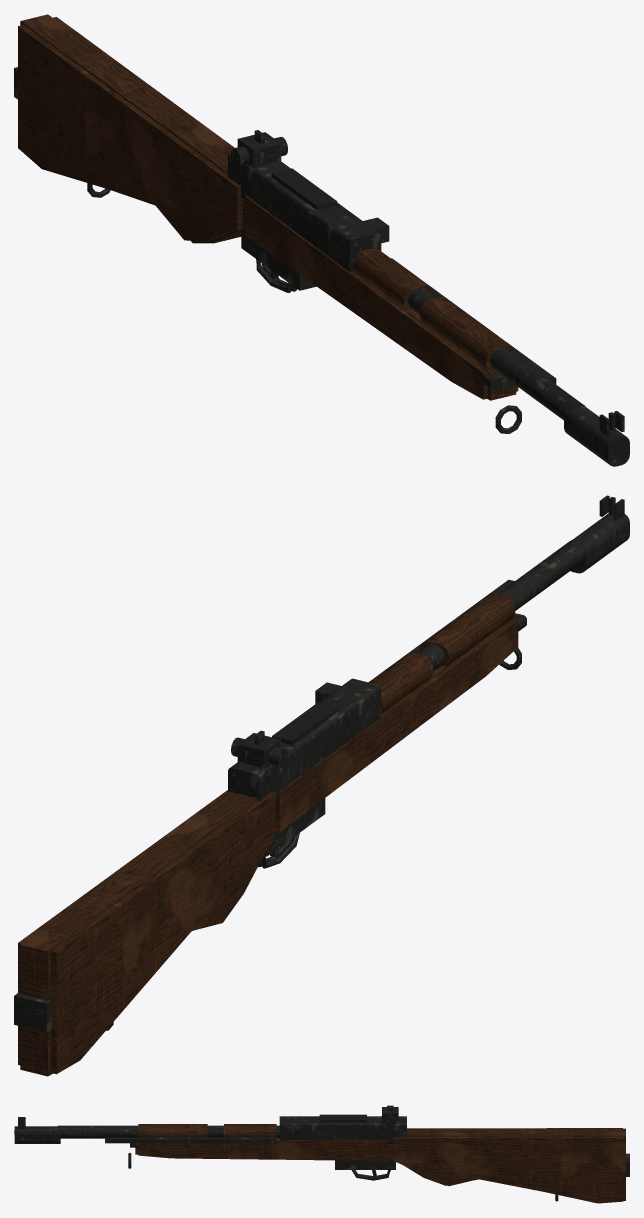
The model's file is garand.glb.
3 renders of one model, top to bottom at view 1: azimuth 30°, elevation 25°; view 2: azimuth 150°, elevation 25°; view 3: azimuth 270°, elevation 25°, orthographic. The views are drawn at different scales.
Parts seen in each view (by area): view 1: M1_Garand; view 2: M1_Garand; view 3: M1_Garand.
Boxes of the visible parts, x1,y1,x2,y2 form: M1_Garand: (14,14,629,466); M1_Garand: (14,495,629,1076); M1_Garand: (14,1105,629,1203).
Size of the model in its own units: 0.06 by 0.189 by 1.11.
Materials: 3 (2 with a texture image).
